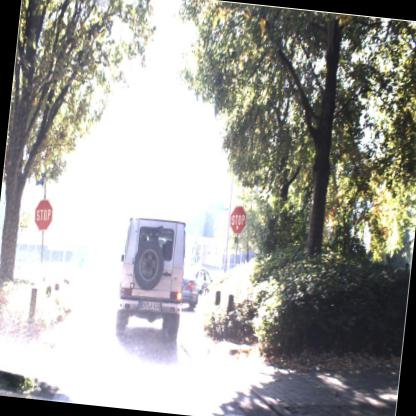other: (30, 195, 58, 236), (225, 202, 248, 237)
